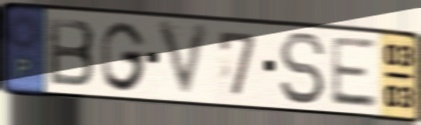7: (216, 30, 258, 99)
B: (46, 15, 98, 90)
E: (328, 34, 380, 110)
G: (99, 19, 149, 94)
S: (276, 30, 328, 107)
V: (154, 19, 214, 102)
